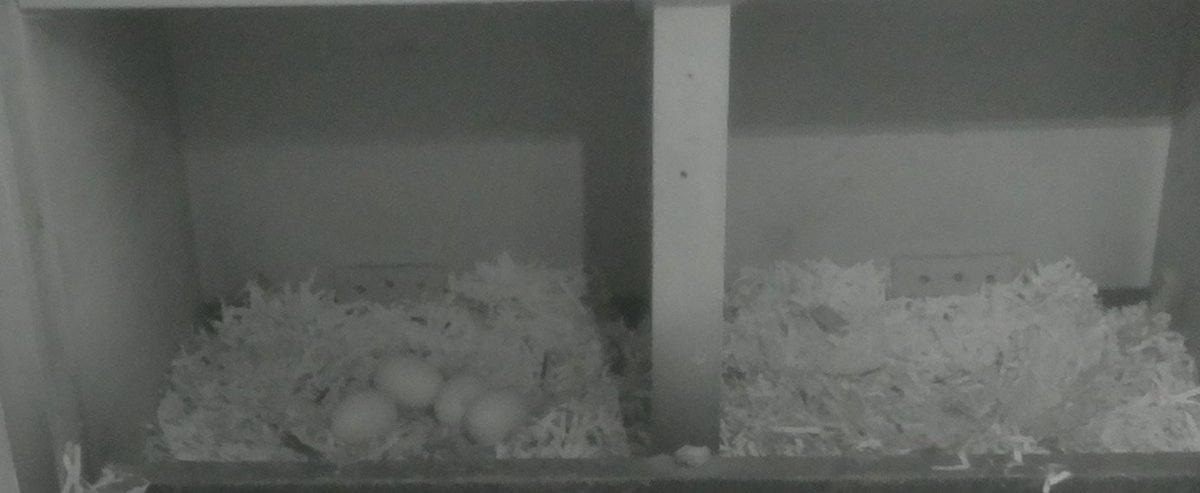egg: (322, 383, 407, 454), (462, 381, 550, 448), (367, 349, 452, 413), (429, 368, 498, 431)
